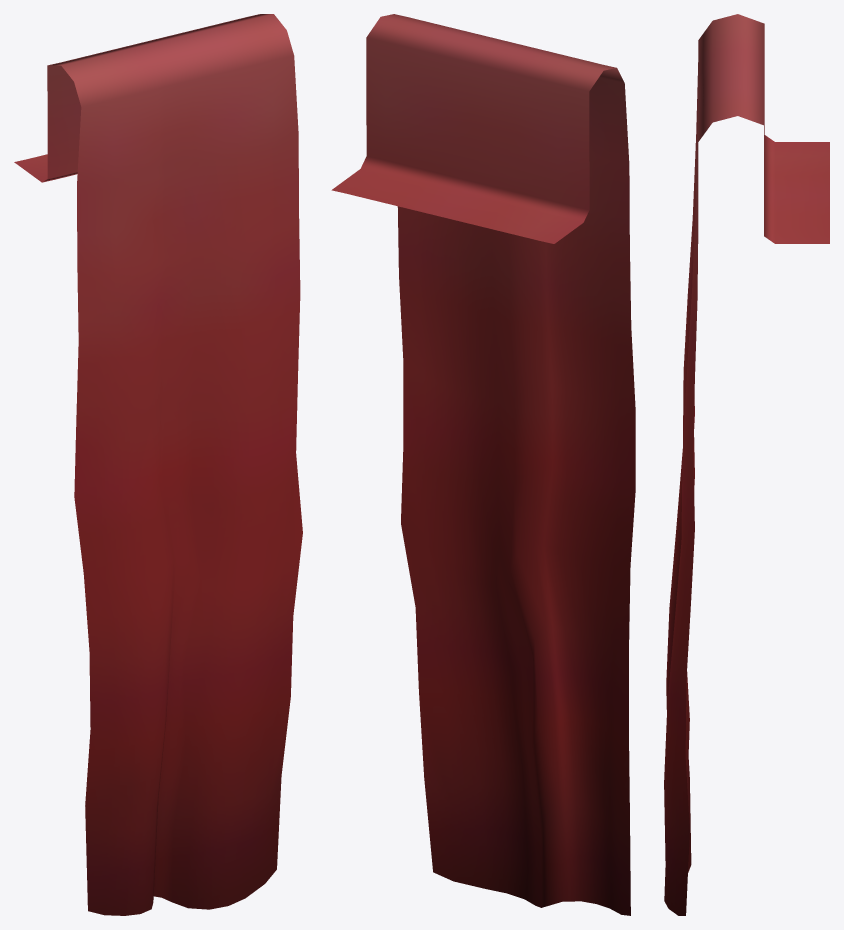
The model's file is M_HangingCloth_02.fbx.
The picture shows the model from 3 angles, left to right: view 1: azimuth 30°, elevation 25°; view 2: azimuth 150°, elevation 25°; view 3: azimuth 270°, elevation 25°; orthographic projection. The views are drawn at different scales.
Visible parts, largest first — view 1: M_HangingCloth_02; view 2: M_HangingCloth_02; view 3: M_HangingCloth_02.
Boxes of the visible parts, <box> form: M_HangingCloth_02: <box>14,14,302,915</box>; M_HangingCloth_02: <box>331,14,635,915</box>; M_HangingCloth_02: <box>664,14,829,915</box>.
Size of the model in its own units: 87.45 by 312 by 56.8.
Materials: 1 (1 with a texture image).
